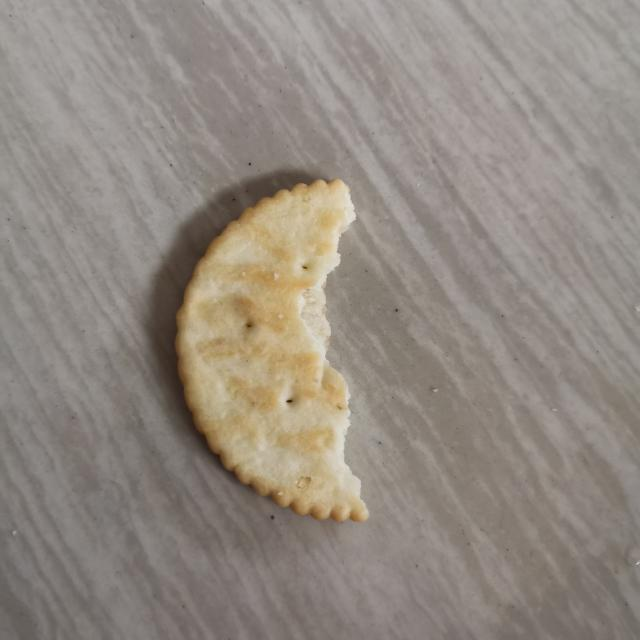Broken: (174, 176, 370, 524)
